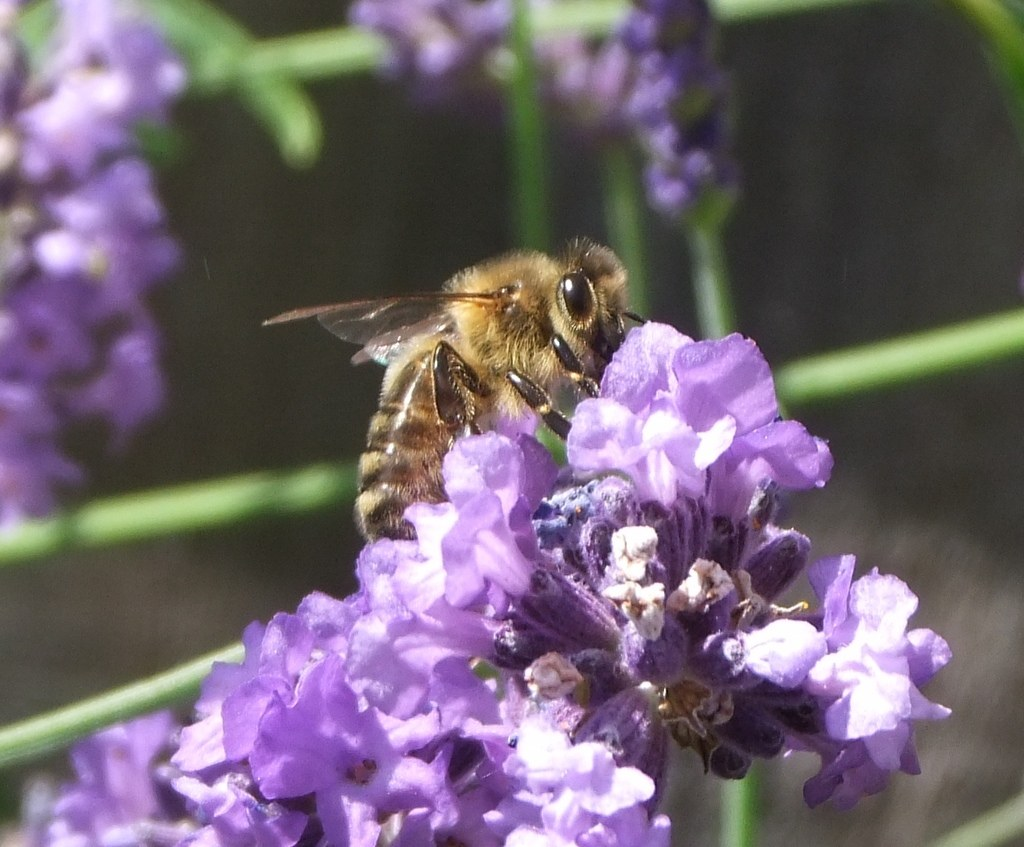bee: (265, 228, 650, 548)
insect: (1, 316, 953, 846), (0, 0, 179, 573), (342, 0, 646, 255), (622, 0, 755, 357)
